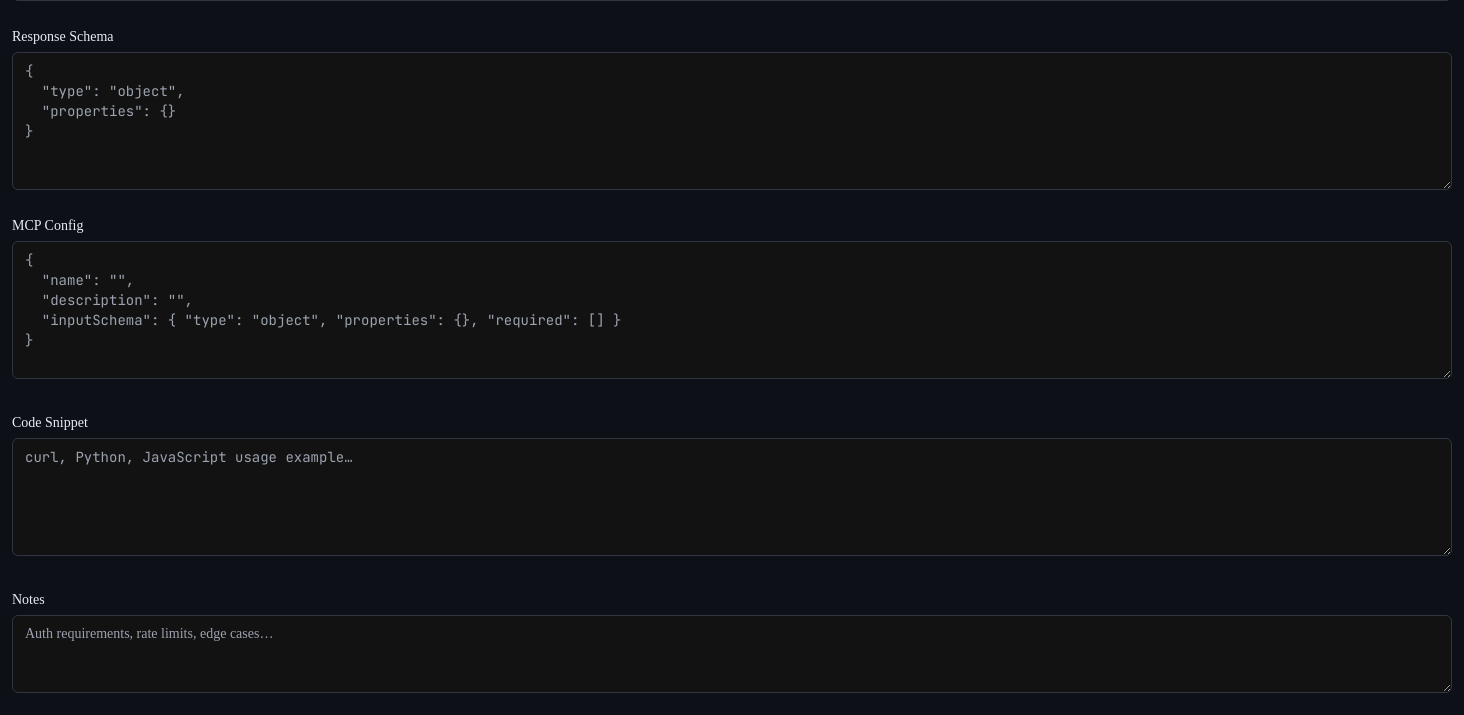
Test: ApiForm — JSON validation (Schema tab) › shows inline error when MCP config has invalid JSON
(page scrolled)
Step 1. Type "not-valid-json" into the text box labelled "MCP Config" → {"x": 732, "y": 310}, box [12,241,1452,379]
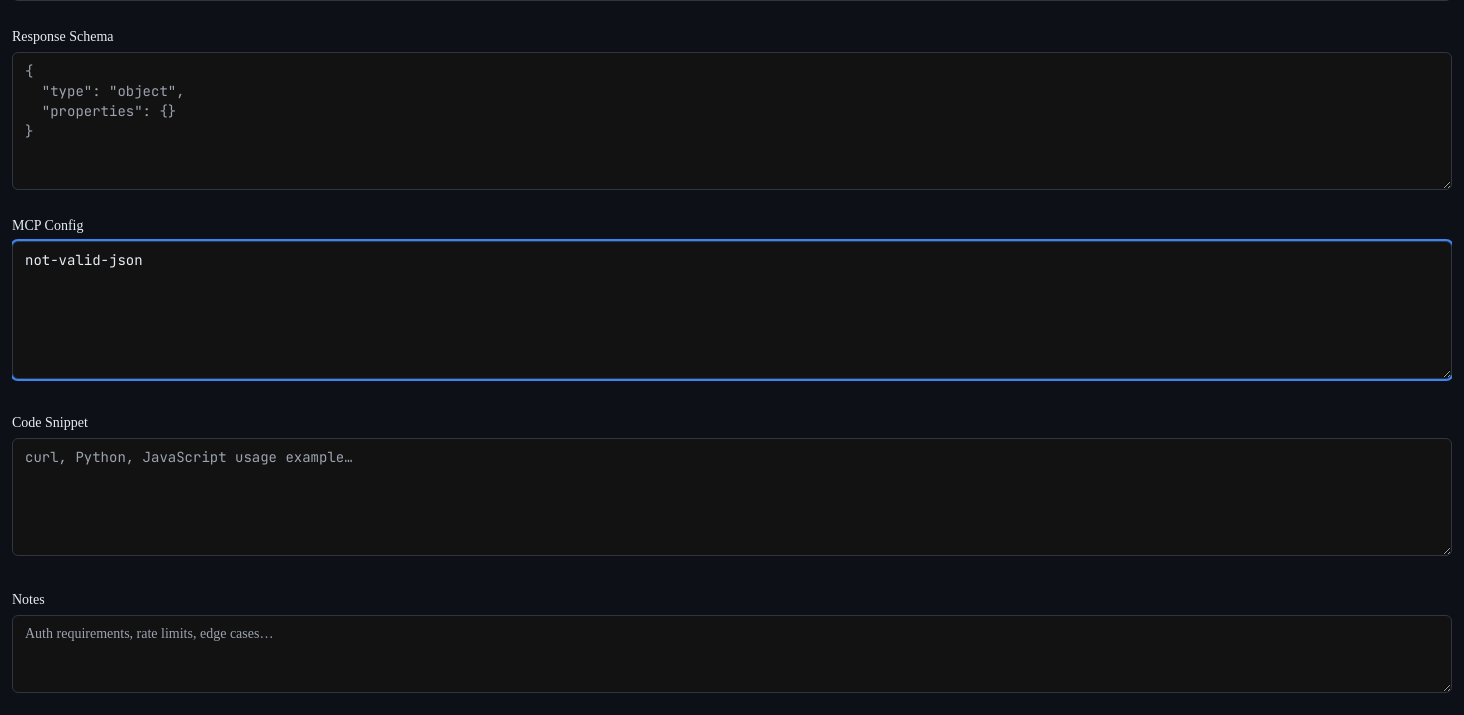
Step 2. Leave the text box labelled "MCP Config", box [12,241,1452,379]
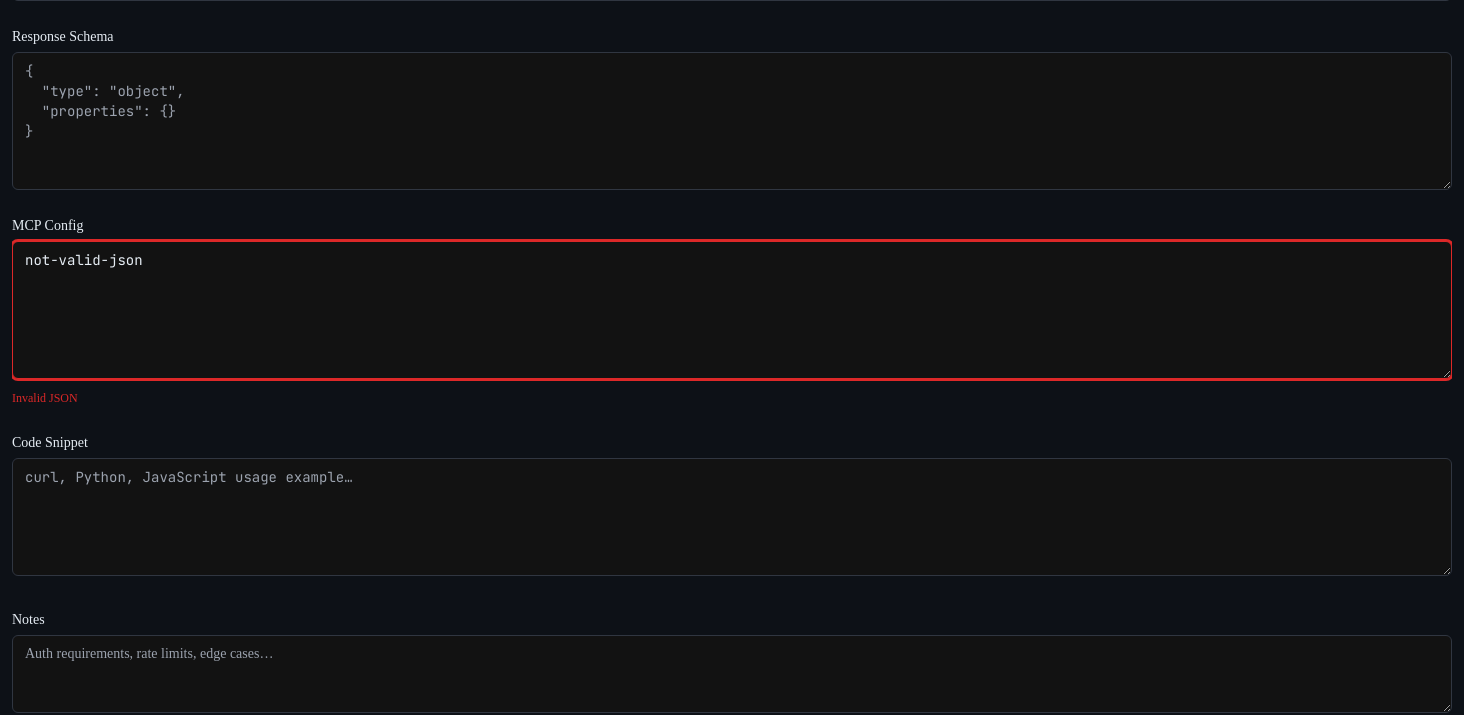
Result: the text "Invalid JSON" is shown at [12,391,78,405]
